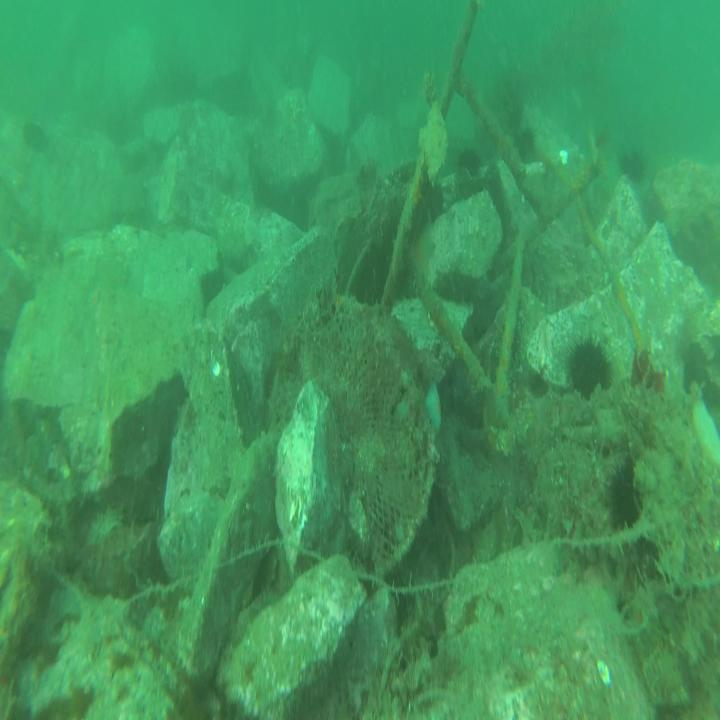echinus: (603, 456, 643, 540), (568, 333, 616, 398), (619, 146, 650, 188), (456, 142, 486, 180)
